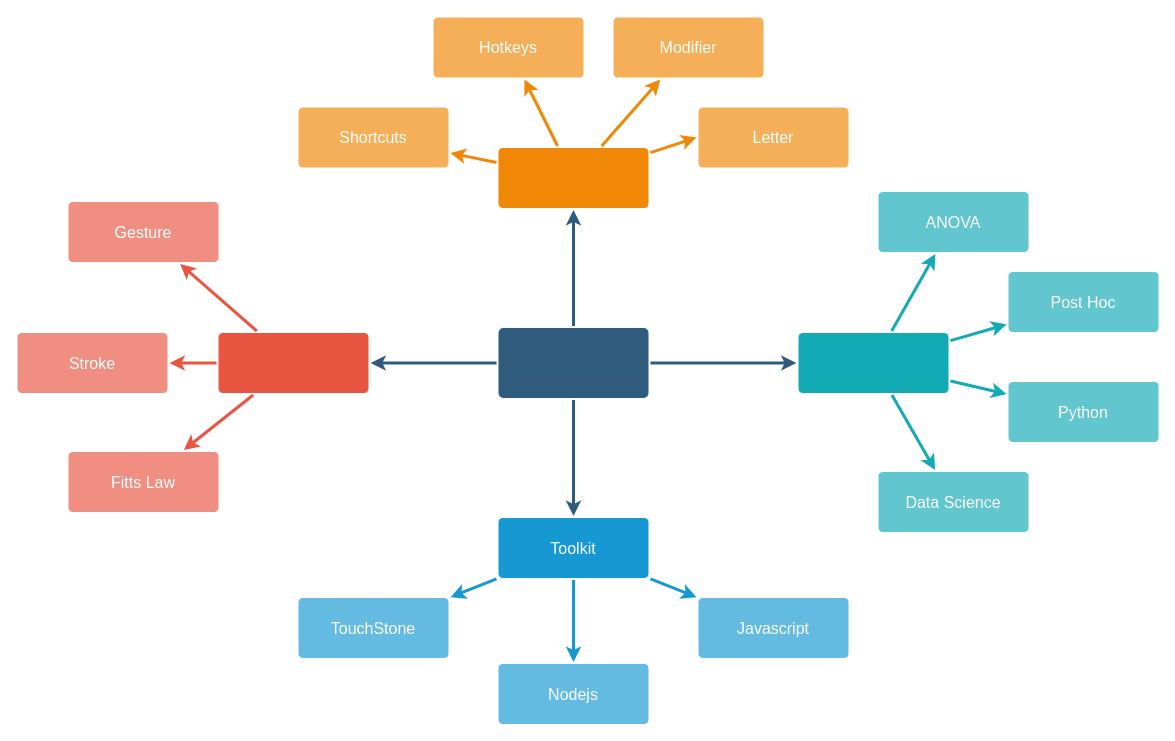
The diagram is 1175 pixels wide and 741 high, and some of its shapes have lost their labels. The shapes that lost their labels are listed below. From the top down, each one's box as (x1, y1, x2, y2) in pixels, then its label:
(498, 148, 648, 208): Keyboard Input
(218, 332, 368, 392): Gestural Interaction
(498, 328, 648, 398): Human Computer Interaction
(798, 332, 948, 392): Analysis
